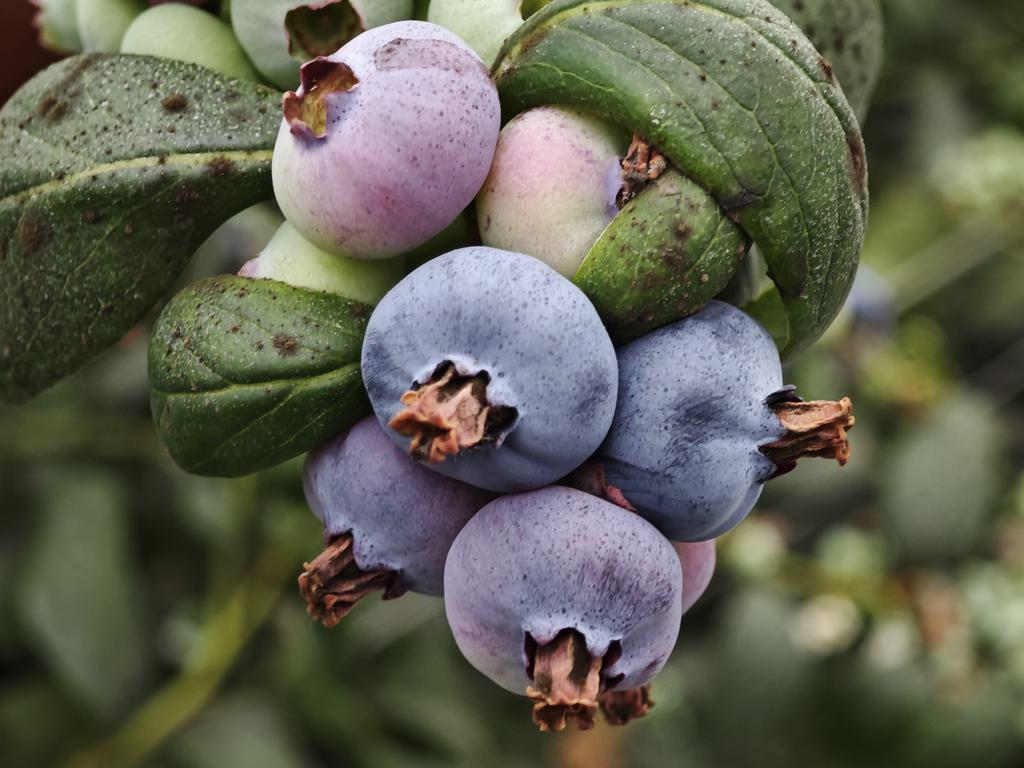RipeBlueBerry: (358, 242, 622, 495), (614, 293, 811, 546)
Semi-RipeBlueBerry: (439, 484, 689, 728), (269, 18, 502, 265)
